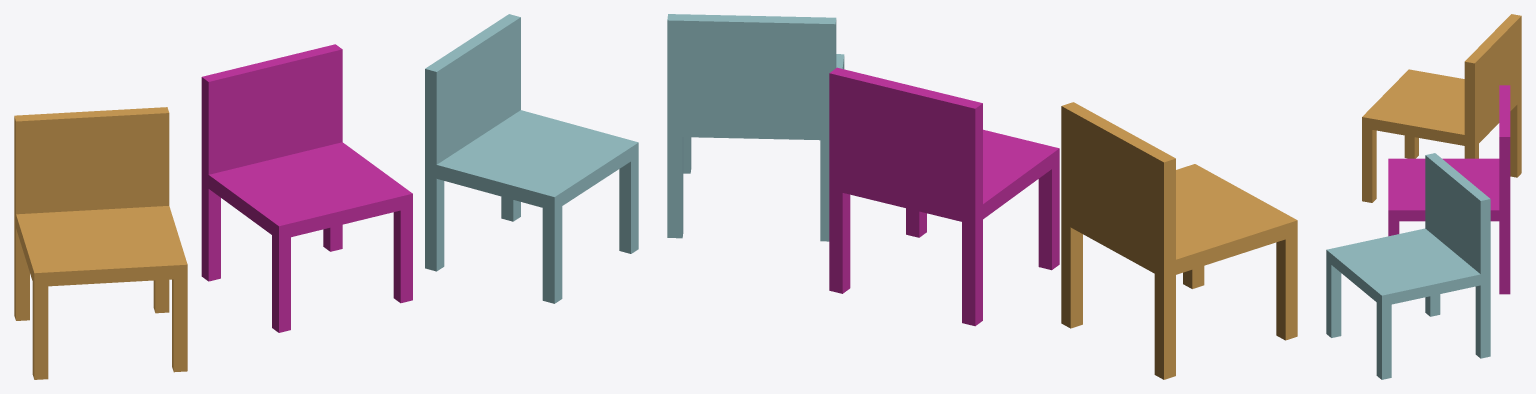
File: chairs.gltf
3 views of the same model, side by side, from view 1: azimuth 30°, elevation 25°; view 2: azimuth 150°, elevation 25°; view 3: azimuth 270°, elevation 25° (orthographic). The views are drawn at different scales.
Visible parts, largest first — view 1: Mesh_Mesh_head_geo.001_lambert2SG.001; view 2: Mesh_Mesh_head_geo.001_lambert2SG.001; view 3: Mesh_Mesh_head_geo.001_lambert2SG.001.
Part boxes in pixels (bbox=[...]): Mesh_Mesh_head_geo.001_lambert2SG.001: bbox=[14, 14, 638, 379]; Mesh_Mesh_head_geo.001_lambert2SG.001: bbox=[667, 14, 1297, 379]; Mesh_Mesh_head_geo.001_lambert2SG.001: bbox=[1326, 14, 1521, 379].
Bounding box in the file's own units: 145 × 47 × 52.75.
